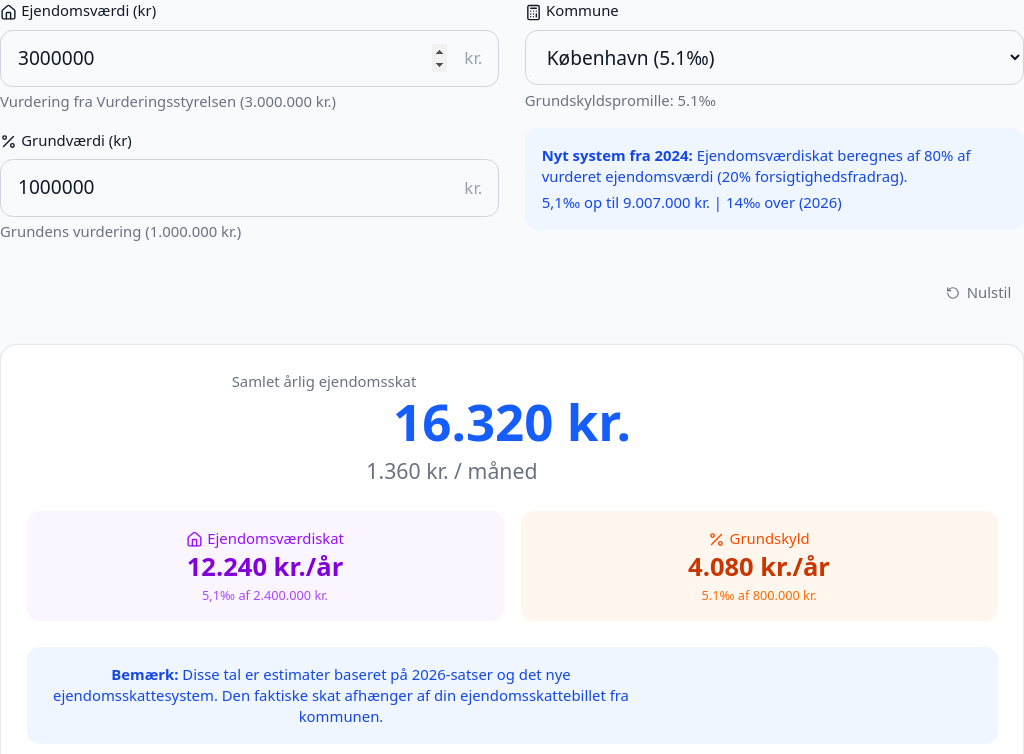
Test: Feltnavn for skærmlæsere — de fire mest besøgte beregnere › da › /ejendomsvaerdiskat: værdi, grundværdi og kommune har navn
The width and height of the screenshot is (1024, 754).
Expected: the number field labelled "Ejendomsværdi (kr)" is shown, x1=0 y1=30 x2=499 y2=87
Expected: the number field labelled "Grundværdi (kr)" is shown, x1=0 y1=159 x2=499 y2=217
Select "Anden kommune (indtast selv)" in the dropdown labelled "Kommune": (774,58) x1=525 y1=30 x2=1023 y2=85
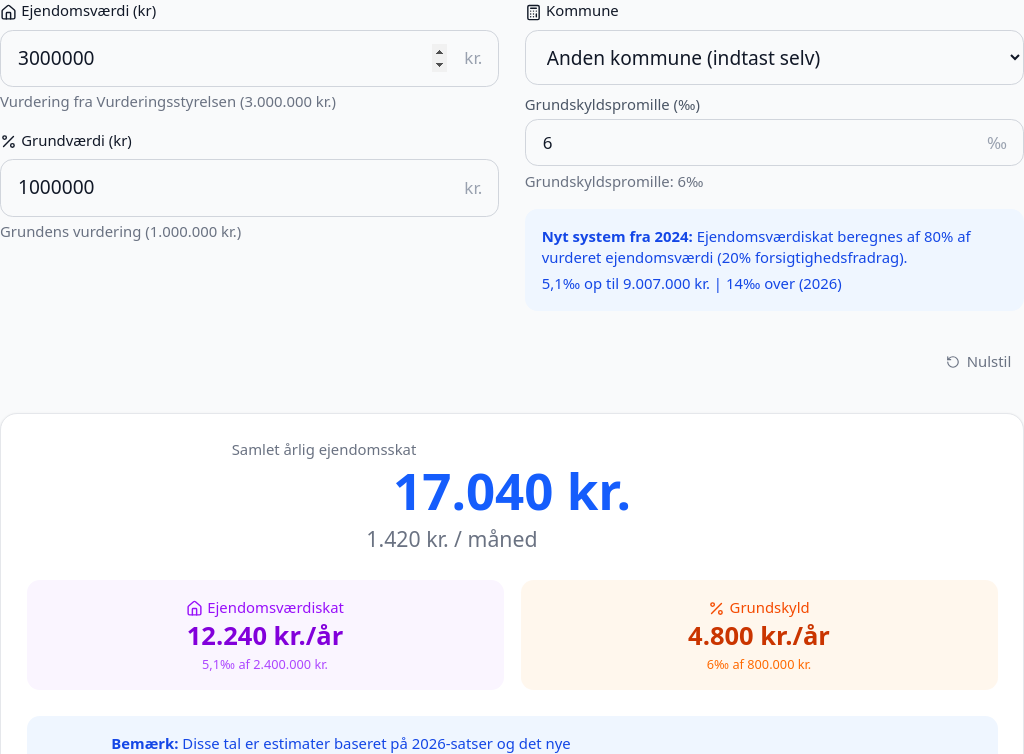
Expected: the number field labelled "Ejendomsværdi (kr)" is shown, x1=0 y1=30 x2=499 y2=87
Result: the number field labelled "Grundskyldspromille (‰)" is shown at x1=525 y1=119 x2=1023 y2=166
Result: the label "Grundskyldspromille (‰)" is shown at x1=525 y1=94 x2=700 y2=114
